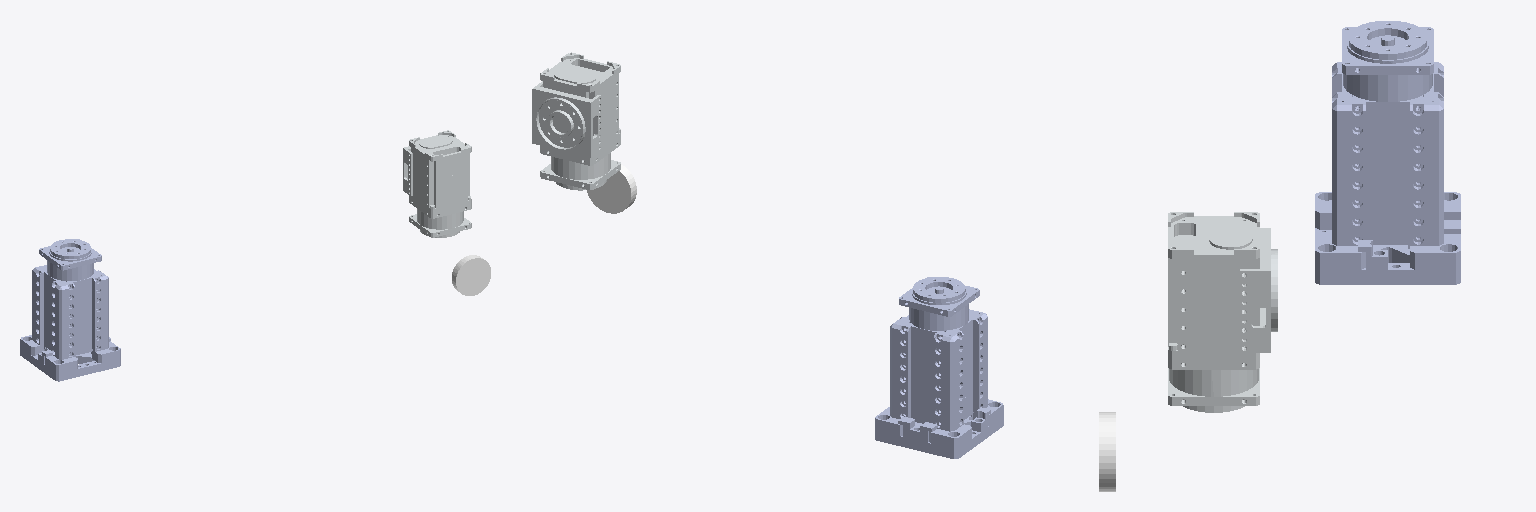
robot.urdf — single_arm_v12:
<?xml version="1.0" encoding="utf-8"?>
<!-- This URDF was automatically created by SolidWorks to URDF Exporter! Originally created by [author] ([email redacted]) 
     Commit Version: 1.6.0-4-g7f85cfe  Build Version: 1.6.7995.38578
     For more information, please see http://wiki.ros.org/sw_urdf_exporter -->
<robot
  name="single_arm_v12">
  <link name="dummy"/>
  <joint name="dummy_joint" type="fixed">
    <parent link="dummy"/>
    <child link="base_link"/>
    </joint>
  <link name='base_link'>
  <!-- <link
    name="base_link"> -->
    <inertial>
      <origin
        xyz="0.00015625 0.00020296 0.064397"
        rpy="0 0 0" />
      <mass
        value="0.47711" />
      <inertia
        ixx="0.00059036"
        ixy="3.555E-10"
        ixz="4.1821E-06"
        iyy="0.00058997"
        iyz="9.8398E-08"
        izz="0.00022102" />
    </inertial>
    <visual>
      <origin
        xyz="0 0 0"
        rpy="0 0 0" />
      <geometry>
        <mesh
          filename="package://single_arm_v12/meshes/base_link.STL" />
      </geometry>
      <material
        name="">
        <color
          rgba="0.79216 0.81961 0.93333 1" />
      </material>
    </visual>
    <collision>
      <origin
        xyz="0 0 0"
        rpy="0 0 0" />
      <geometry>
        <mesh
          filename="package://single_arm_v12/meshes/base_link.STL" />
      </geometry>
    </collision>
  </link>
  <link
    name="Link1">
    <inertial>
      <origin
        xyz="3.4484E-06 0.00039863 0.028769"
        rpy="0 0 0" />
      <mass
        value="0.38613" />
      <inertia
        ixx="0.00047431"
        ixy="-7.0827E-08"
        ixz="-3.5556E-10"
        iyy="0.00017465"
        iyz="4.1821E-06"
        izz="0.00048907" />
    </inertial>
    <visual>
      <origin
        xyz="0 0 0"
        rpy="0 0 0" />
      <geometry>
        <mesh
          filename="package://single_arm_v12/meshes/Link1.STL" />
      </geometry>
      <material
        name="">
        <color
          rgba="0.79216 0.81961 0.93333 1" />
      </material>
    </visual>
    <collision>
      <origin
        xyz="0 0 0"
        rpy="0 0 0" />
      <geometry>
        <mesh
          filename="package://single_arm_v12/meshes/Link1.STL" />
      </geometry>
    </collision>
  </link>
  <joint
    name="Joint1"
    type="revolute">
    <origin
      xyz="0 0 0.1445"
      rpy="0 0 0" />
    <parent
      link="base_link" />
    <child
      link="Link1" />
    <axis
      xyz="0 0 1" />
    <limit
      lower="-3.14"
      upper="3.14"
      effort="50"
      velocity="0" />
  </joint>
  <link
    name="Link2">
    <inertial>
      <origin
        xyz="0.13568 -0.00070506 0.0057888"
        rpy="0 0 0" />
      <mass
        value="0.61539" />
      <inertia
        ixx="0.0005945"
        ixy="1.0755E-06"
        ixz="3.5702E-06"
        iyy="0.00064394"
        iyz="-8.2912E-08"
        izz="0.00039018" />
    </inertial>
    <visual>
      <origin
        xyz="0 0 0"
        rpy="0 0 0" />
      <geometry>
        <mesh
          filename="package://single_arm_v12/meshes/Link2.STL" />
      </geometry>
      <material
        name="">
        <color
          rgba="0.89804 0.91765 0.92941 1" />
      </material>
    </visual>
    <collision>
      <origin
        xyz="0 0 0"
        rpy="0 0 0" />
      <geometry>
        <mesh
          filename="package://single_arm_v12/meshes/Link2.STL" />
      </geometry>
    </collision>
  </link>
  <joint
    name="Joint2"
    type="revolute">
    <origin
      xyz="0 -0.0685 0.0315"
      rpy="1.5708 0 0" />
    <parent
      link="Link1" />
    <child
      link="Link2" />
    <axis
      xyz="0 0 1" />
    <limit
      lower="-3.14"
      upper="3.14"
      effort="50"
      velocity="0" />
  </joint>
  <link
    name="Link3">
    <inertial>
      <origin
        xyz="0.135406483957112 0.000471066373987292 -0.00759294057285472"
        rpy="0 0 0" />
      <mass
        value="0.558726771182515" />
      <inertia
        ixx="0.000527368072379024"
        ixy="-8.79483327326058E-07"
        ixz="-3.57015353375444E-06"
        iyy="0.000579703994248901"
        iyz="-8.29116899084273E-08"
        izz="0.000372569704142056" />
    </inertial>
    <visual>
      <origin
        xyz="0 0 0"
        rpy="0 0 0" />
      <geometry>
        <mesh
          filename="package://single_arm_v12/meshes/Link3.STL" />
      </geometry>
      <material
        name="">
        <color
          rgba="0.898039215686275 0.917647058823529 0.929411764705882 1" />
      </material>
    </visual>
    <collision>
      <origin
        xyz="0 0 0"
        rpy="0 0 0" />
      <geometry>
        <mesh
          filename="package://single_arm_v12/meshes/Link3.STL" />
      </geometry>
    </collision>
  </link>
  <joint
    name="Joint3"
    type="revolute">
    <origin
      xyz="0.214 0 -0.0325"
      rpy="0 0 0" />
    <parent
      link="Link2" />
    <child
      link="Link3" />
    <axis
      xyz="0 0 -1" />
    <limit
      lower="-3.14"
      upper="3.14"
      effort="50"
      velocity="0" />
  </joint>
  <link
    name="Link4">
    <inertial>
      <origin
        xyz="-1.11022302462516E-16 0.0124471610012716 0.0305494763505743"
        rpy="0 0 0" />
      <mass
        value="0.313854171959486" />
      <inertia
        ixx="0.00030905374217572"
        ixy="2.20104937481116E-19"
        ixz="1.99389141092033E-20"
        iyy="0.000138417182248756"
        iyz="-3.51429818496687E-06"
        izz="0.000324741574348905" />
    </inertial>
    <visual>
      <origin
        xyz="0 0 0"
        rpy="0 0 0" />
      <geometry>
        <mesh
          filename="package://single_arm_v12/meshes/Link4.STL" />
      </geometry>
      <material
        name="">
        <color
          rgba="0.898039215686275 0.917647058823529 0.929411764705882 1" />
      </material>
    </visual>
    <collision>
      <origin
        xyz="0 0 0"
        rpy="0 0 0" />
      <geometry>
        <mesh
          filename="package://single_arm_v12/meshes/Link4.STL" />
      </geometry>
    </collision>
  </link>
  <joint
    name="Joint4"
    type="revolute">
    <origin
      xyz="0.214 0 0.0325"
      rpy="0 0 3.1416" />
    <parent
      link="Link3" />
    <child
      link="Link4" />
    <axis
      xyz="0 0 1" />
    <limit
      lower="-3.14"
      upper="3.14"
      effort="50"
      velocity="0" />
  </joint>
  <link
    name="Link5">
    <inertial>
      <origin
        xyz="0.0305494763505902 0.0124160882702156 -0.000878959076247798"
        rpy="0 0 0" />
      <mass
        value="0.313854171959487" />
      <inertia
        ixx="0.000324741574348905"
        ixy="-3.50552519309465E-06"
        ixz="2.48162957481373E-07"
        iyy="0.000139268063164469"
        iyz="1.20194589741801E-05"
        izz="0.000308202861260008" />
    </inertial>
    <visual>
      <origin
        xyz="0 0 0"
        rpy="0 0 0" />
      <geometry>
        <mesh
          filename="package://single_arm_v12/meshes/Link5.STL" />
      </geometry>
      <material
        name="">
        <color
          rgba="0.898039215686275 0.917647058823529 0.929411764705882 1" />
      </material>
    </visual>
    <collision>
      <origin
        xyz="0 0 0"
        rpy="0 0 0" />
      <geometry>
        <mesh
          filename="package://single_arm_v12/meshes/Link5.STL" />
      </geometry>
    </collision>
  </link>
  <joint
    name="Joint5"
    type="revolute">
    <origin
      xyz="0 0.0685 0.0346"
      rpy="1.5708 0 1.5708" />
    <parent
      link="Link4" />
    <child
      link="Link5" />
    <axis
      xyz="-1 0 0" />
    <limit
      lower="-3.14"
      upper="3.14"
      effort="50"
      velocity="0" />
  </joint>
  <link
    name="Link6">
    <inertial>
      <origin
        xyz="-1.11022302462516E-16 1.73472347597681E-18 0.0055"
        rpy="0 0 0" />
      <mass
        value="0.0173494454294496" />
      <inertia
        ixx="2.53988652151547E-06"
        ixy="-2.00729161979554E-22"
        ixz="-3.90838944351189E-22"
        iyy="2.53988652151547E-06"
        iyz="-1.17534537510526E-22"
        izz="4.79061561920678E-06" />
    </inertial>
    <visual>
      <origin
        xyz="0 0 0"
        rpy="0 0 0" />
      <geometry>
        <mesh
          filename="package://single_arm_v12/meshes/Link6.STL" />
      </geometry>
      <material
        name="">
        <color
          rgba="1 1 1 1" />
      </material>
    </visual>
    <collision>
      <origin
        xyz="0 0 0"
        rpy="0 0 0" />
      <geometry>
        <mesh
          filename="package://single_arm_v12/meshes/Link6.STL" />
      </geometry>
    </collision>
  </link>
  <joint
    name="Joint6"
    type="revolute">
    <origin
      xyz="0.0346 0.068329 -0.0048371"
      rpy="1.5708 -1.5708 0" />
    <parent
      link="Link5" />
    <child
      link="Link6" />
    <axis
      xyz="0 0 1" />
    <limit
      lower="-3.14"
      upper="3.14"
      effort="50"
      velocity="0" />
  </joint>
</robot>

--- What the picture shows (computed from the rendered views, not written in the file) ---
The picture shows the robot from 3 angles, left to right: view 1: azimuth 30°, elevation 25°; view 2: azimuth 150°, elevation 25°; view 3: azimuth 270°, elevation 25°; orthographic projection.
Model single_arm_v12 with 8 links and 7 joints (6 revolute, 1 fixed), rooted at dummy, posed all joints at 0.
Visible links, largest first — view 1: base_link, Link4, Link6; view 2: base_link, Link4, Link6; view 3: base_link, Link4, Link6.
Link boxes in pixels (left/top/right/bottom): base_link: left=20, top=239, right=120, bottom=381; Link4: left=403, top=130, right=471, bottom=237; Link6: left=452, top=255, right=490, bottom=295; base_link: left=875, top=277, right=1003, bottom=458; Link4: left=532, top=52, right=620, bottom=190; Link6: left=587, top=164, right=636, bottom=213; base_link: left=1315, top=21, right=1460, bottom=284; Link4: left=1168, top=212, right=1277, bottom=412; Link6: left=1099, top=412, right=1115, bottom=491.
Size in the robot's own frame: 0.501 by 0.2139 by 0.215 metres.
Meshes: 7 distinct files referenced, 3 mesh visuals loaded (3 binary STL); not drawn: 4 (reference not matched to a file when rendering).